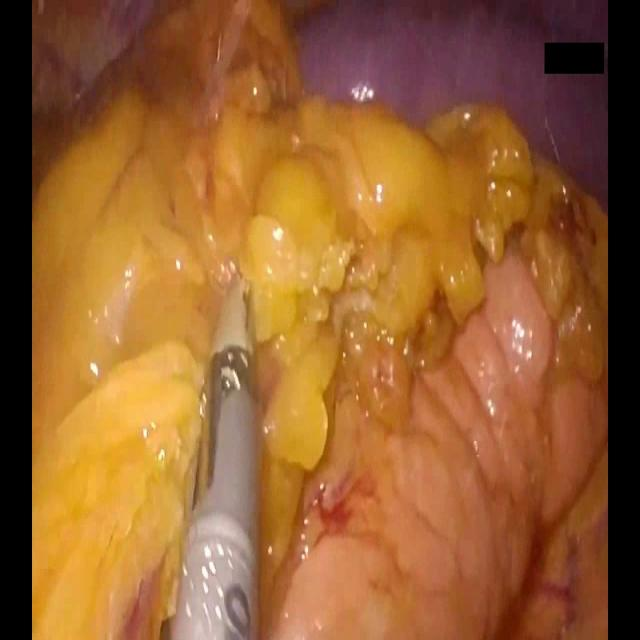surgical-area: (32, 0, 608, 639)
surgical-tool: (160, 273, 260, 639)
